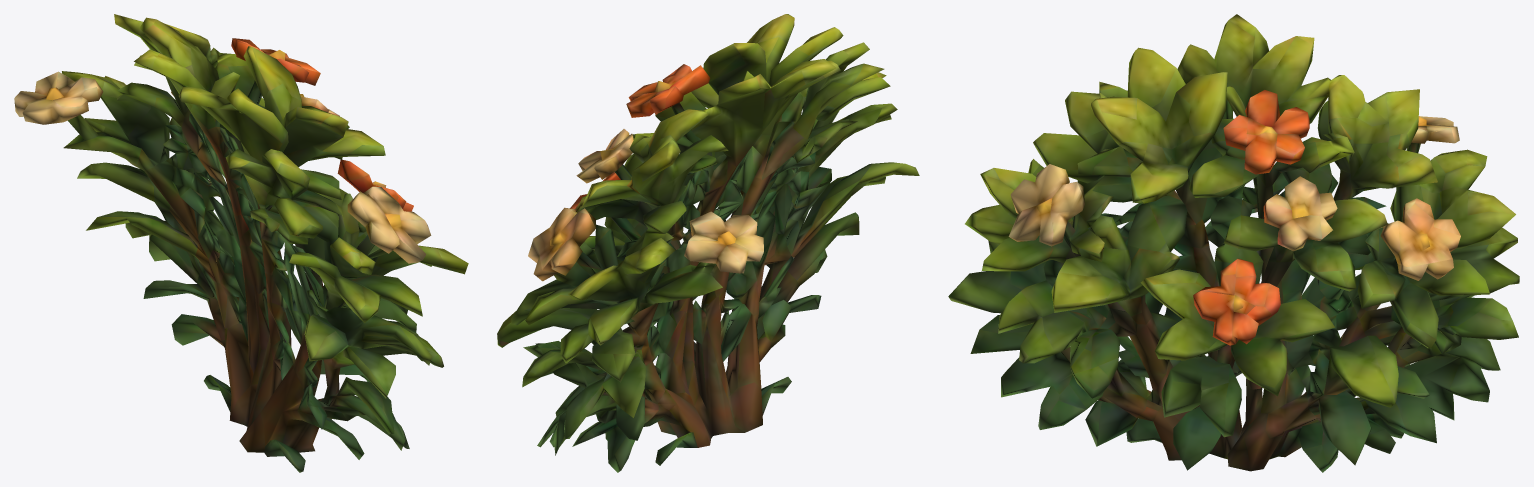
Rendered from sh02-solarbloom-shrub.glb.
3 views of the same model, side by side, from view 1: azimuth 30°, elevation 25°; view 2: azimuth 150°, elevation 25°; view 3: azimuth 270°, elevation 25° (orthographic). The views are drawn at different scales.
Parts seen in each view (by area): view 1: tripo_node_07012d82-564a-47f4-b0cd-27a0dc4c9b2a; view 2: tripo_node_07012d82-564a-47f4-b0cd-27a0dc4c9b2a; view 3: tripo_node_07012d82-564a-47f4-b0cd-27a0dc4c9b2a.
Boxes of the visible parts, left/top/right/bottom form: tripo_node_07012d82-564a-47f4-b0cd-27a0dc4c9b2a: left=14, top=14, right=468, bottom=472; tripo_node_07012d82-564a-47f4-b0cd-27a0dc4c9b2a: left=497, top=14, right=919, bottom=472; tripo_node_07012d82-564a-47f4-b0cd-27a0dc4c9b2a: left=948, top=14, right=1519, bottom=472.
Bounding box in the file's own units: 0.5723 × 0.7344 × 0.9966.
Materials: 1 (1 with a texture image).
